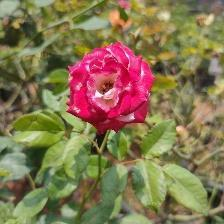rose: (66, 40, 158, 137)
